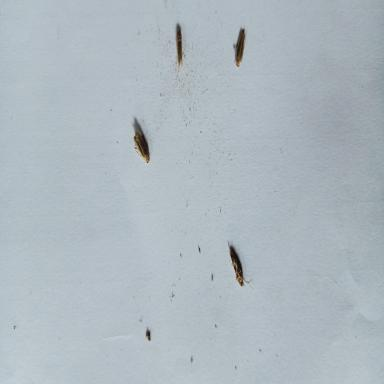pbw: (225, 236, 255, 291), (172, 26, 186, 78), (132, 130, 151, 167), (232, 24, 246, 70)
